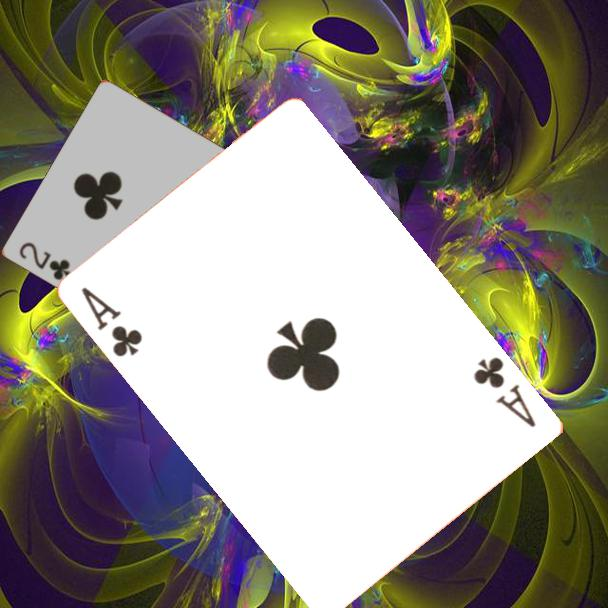c01: (470, 353, 540, 431), (78, 283, 147, 361)
c02: (16, 238, 74, 283)
